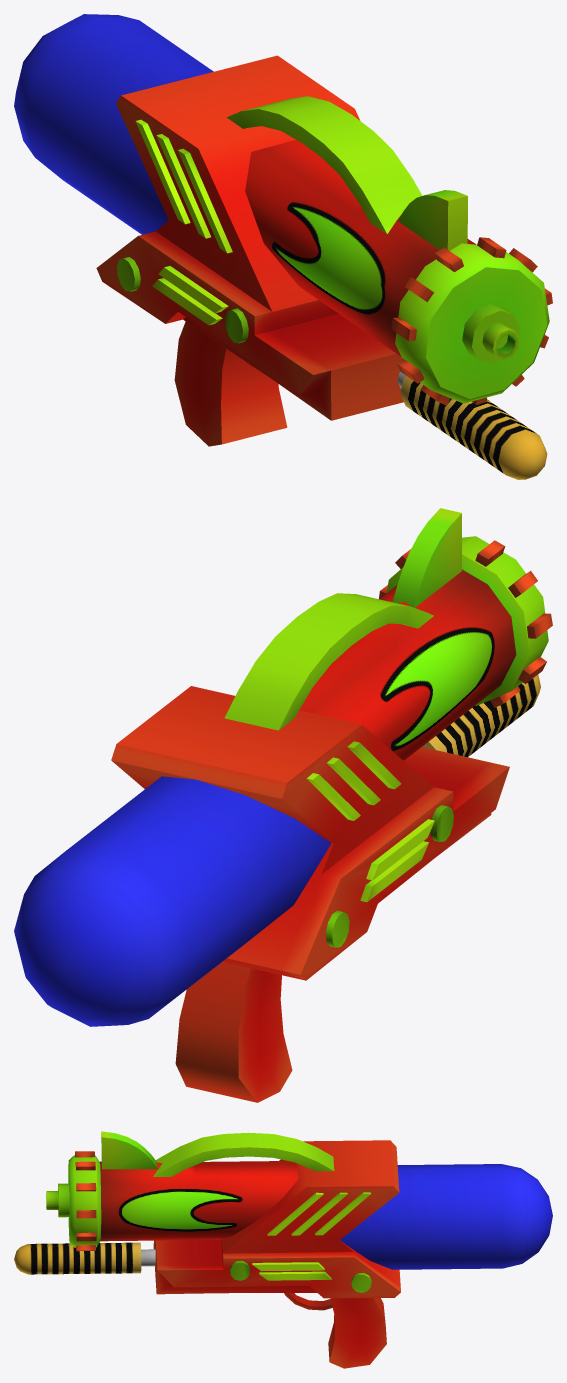
File: Gun_model_1.FBX
The picture shows the model from 3 angles, top to bottom: view 1: azimuth 30°, elevation 25°; view 2: azimuth 150°, elevation 25°; view 3: azimuth 270°, elevation 25°; orthographic projection. The views are drawn at different scales.
Visible parts, largest first — view 1: Box001; view 2: Box001; view 3: Box001.
Part boxes in pixels (x1,y1,x2,y2): Box001: [14, 14, 552, 479]; Box001: [14, 508, 552, 1102]; Box001: [14, 1131, 552, 1368].
Size of the model in its own units: 21.06 by 36.74 by 78.74.
Materials: 1 (1 with a texture image).
